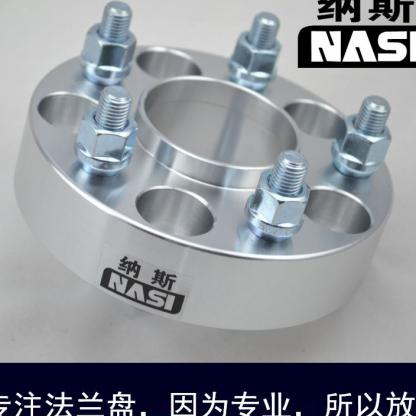FOD: (11, 38, 400, 336)
